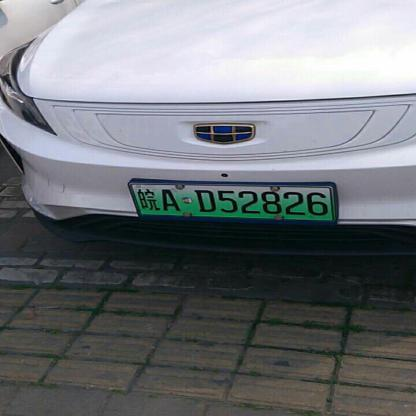lp: (130, 184, 335, 218)
